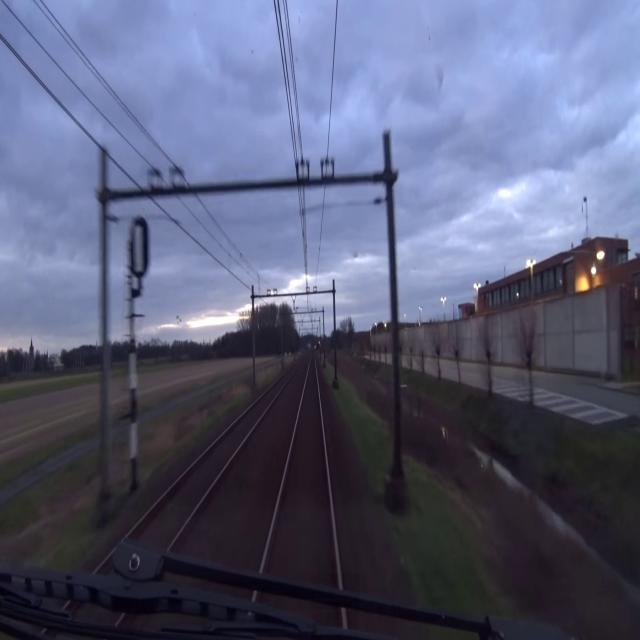rail-track: (134, 369, 293, 543), (265, 357, 336, 581)
